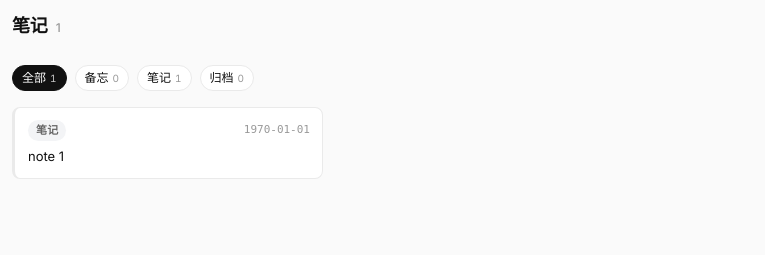
it: NotesSection › shows StateEmpty when filtered to a subtype with no matches
The width and height of the screenshot is (765, 255).
Step 1. Click the button "备忘 0" → {"x": 102, "y": 78}, box [74,65,129,91]
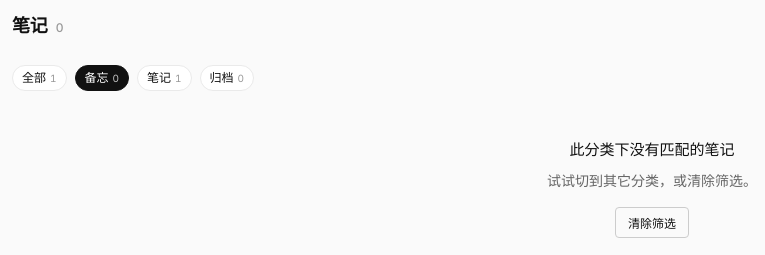
Expected: the text "此分类下没有匹配的笔记" is shown, [570,139,734,162]
